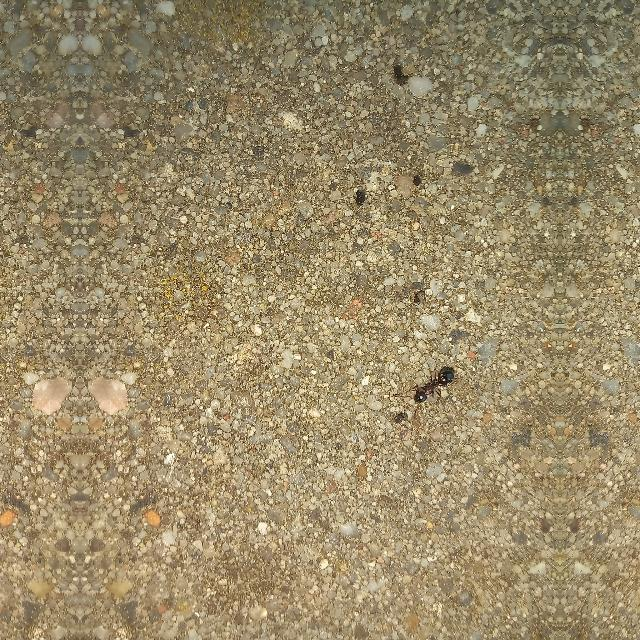Dolichoderus: (405, 350, 459, 408)
